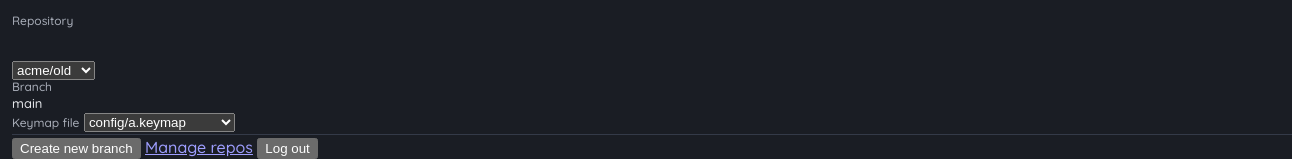
it: Github Picker › clears branches on repo switch and ignores a stale layout response
Check: the text with class "branch-value" reads "main", box [12,95,42,111]
Select "acme/new" in the dropdown with id "repo" at (54, 70), box [12,61,95,80]
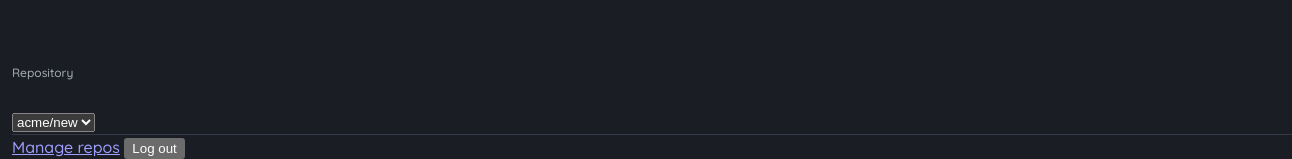
Check: the text with class "branch-value" is gone
